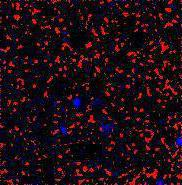star: (153, 127, 182, 157)
